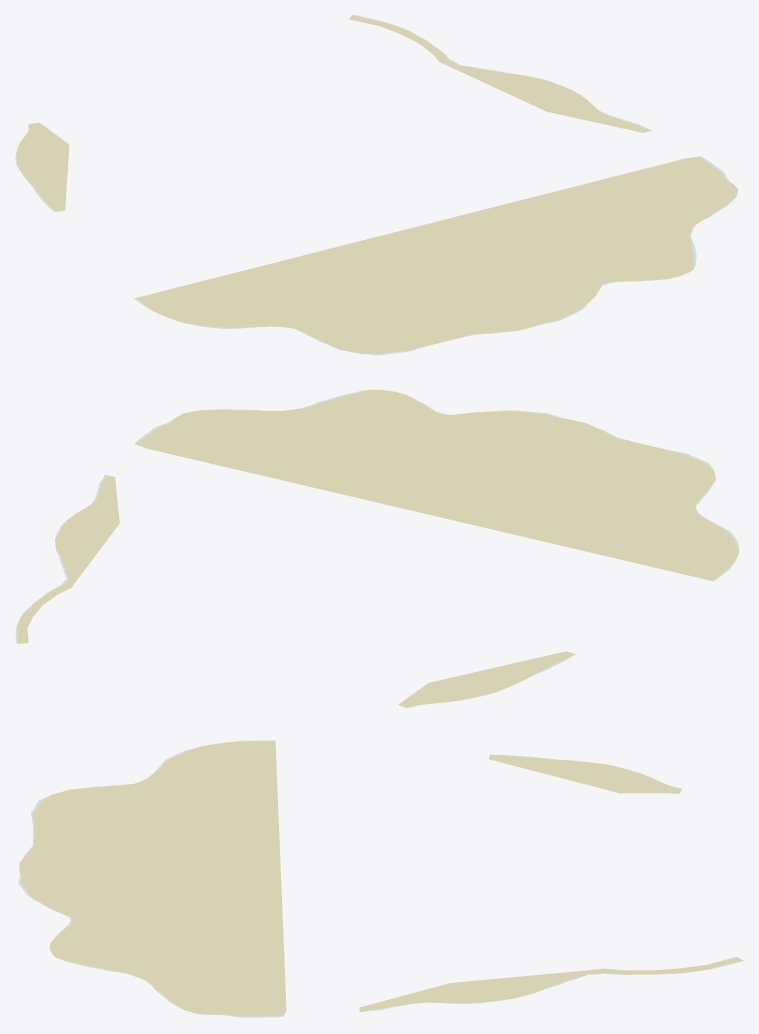
File: Mesh_Activity_Pachinko_02_Grass_05.fbx
3 views of the same model, one above another, from view 1: azimuth 30°, elevation 25°; view 2: azimuth 150°, elevation 25°; view 3: azimuth 270°, elevation 25° (orthographic).
Parts seen in each view (by area): view 1: Mesh_Activity_Pachinko_02_Grass_05; view 2: Mesh_Activity_Pachinko_02_Grass_05; view 3: Mesh_Activity_Pachinko_02_Grass_05.
Boxes of the visible parts, x1=… form: Mesh_Activity_Pachinko_02_Grass_05: x1=15, y1=14, x2=738, y2=355; Mesh_Activity_Pachinko_02_Grass_05: x1=15, y1=389, x2=739, y2=708; Mesh_Activity_Pachinko_02_Grass_05: x1=18, y1=740, x2=743, y2=1017.
Bounding box in the file's own units: 1429 × 0 × 1564.
Materials: 1 (1 with a texture image).
